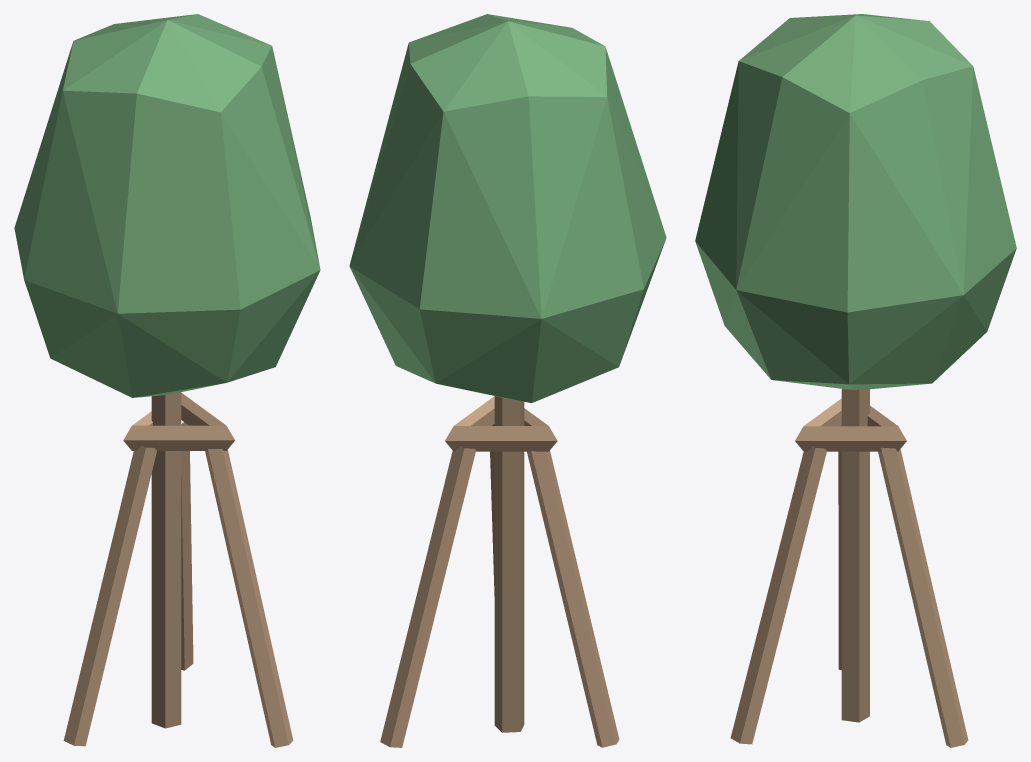
Rendered from tree-little.glb.
3 views of the same model, side by side, from view 1: azimuth 30°, elevation 25°; view 2: azimuth 150°, elevation 25°; view 3: azimuth 270°, elevation 25° (orthographic).
Visible parts, largest first — view 1: tree_little; view 2: tree_little; view 3: tree_little.
Boxes of the visible parts, bbox=[...] form: tree_little: bbox=[14, 14, 320, 747]; tree_little: bbox=[349, 14, 666, 747]; tree_little: bbox=[695, 14, 1016, 747].
Size of the model in its own units: 111 by 267 by 111.
